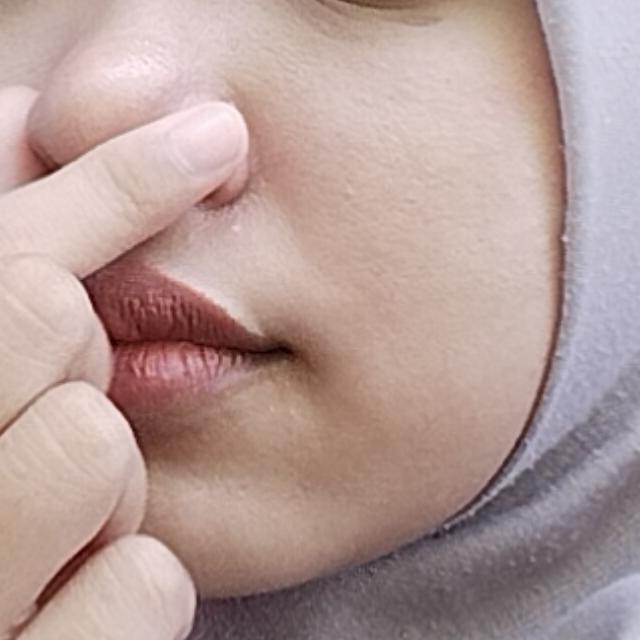bau: (0, 38, 420, 640)
